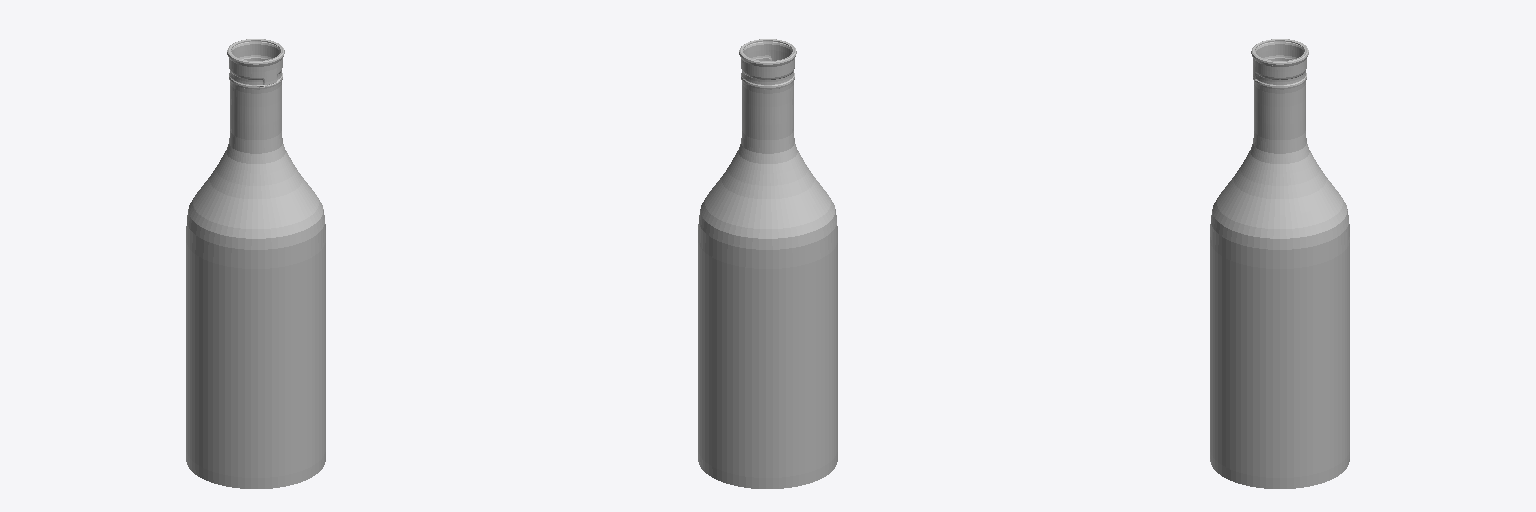
The model's file is wineBottle.obj.
3 renders of one model, left to right at view 1: azimuth 30°, elevation 25°; view 2: azimuth 150°, elevation 25°; view 3: azimuth 270°, elevation 25°, orthographic.
Visible parts, largest first — view 1: Cylinder; view 2: Cylinder; view 3: Cylinder.
Part boxes in pixels (bbox=[...]): Cylinder: bbox=[186, 39, 325, 488]; Cylinder: bbox=[698, 39, 837, 488]; Cylinder: bbox=[1210, 39, 1349, 488].
Bounding box in the file's own units: 1.42 × 4.59 × 1.42.